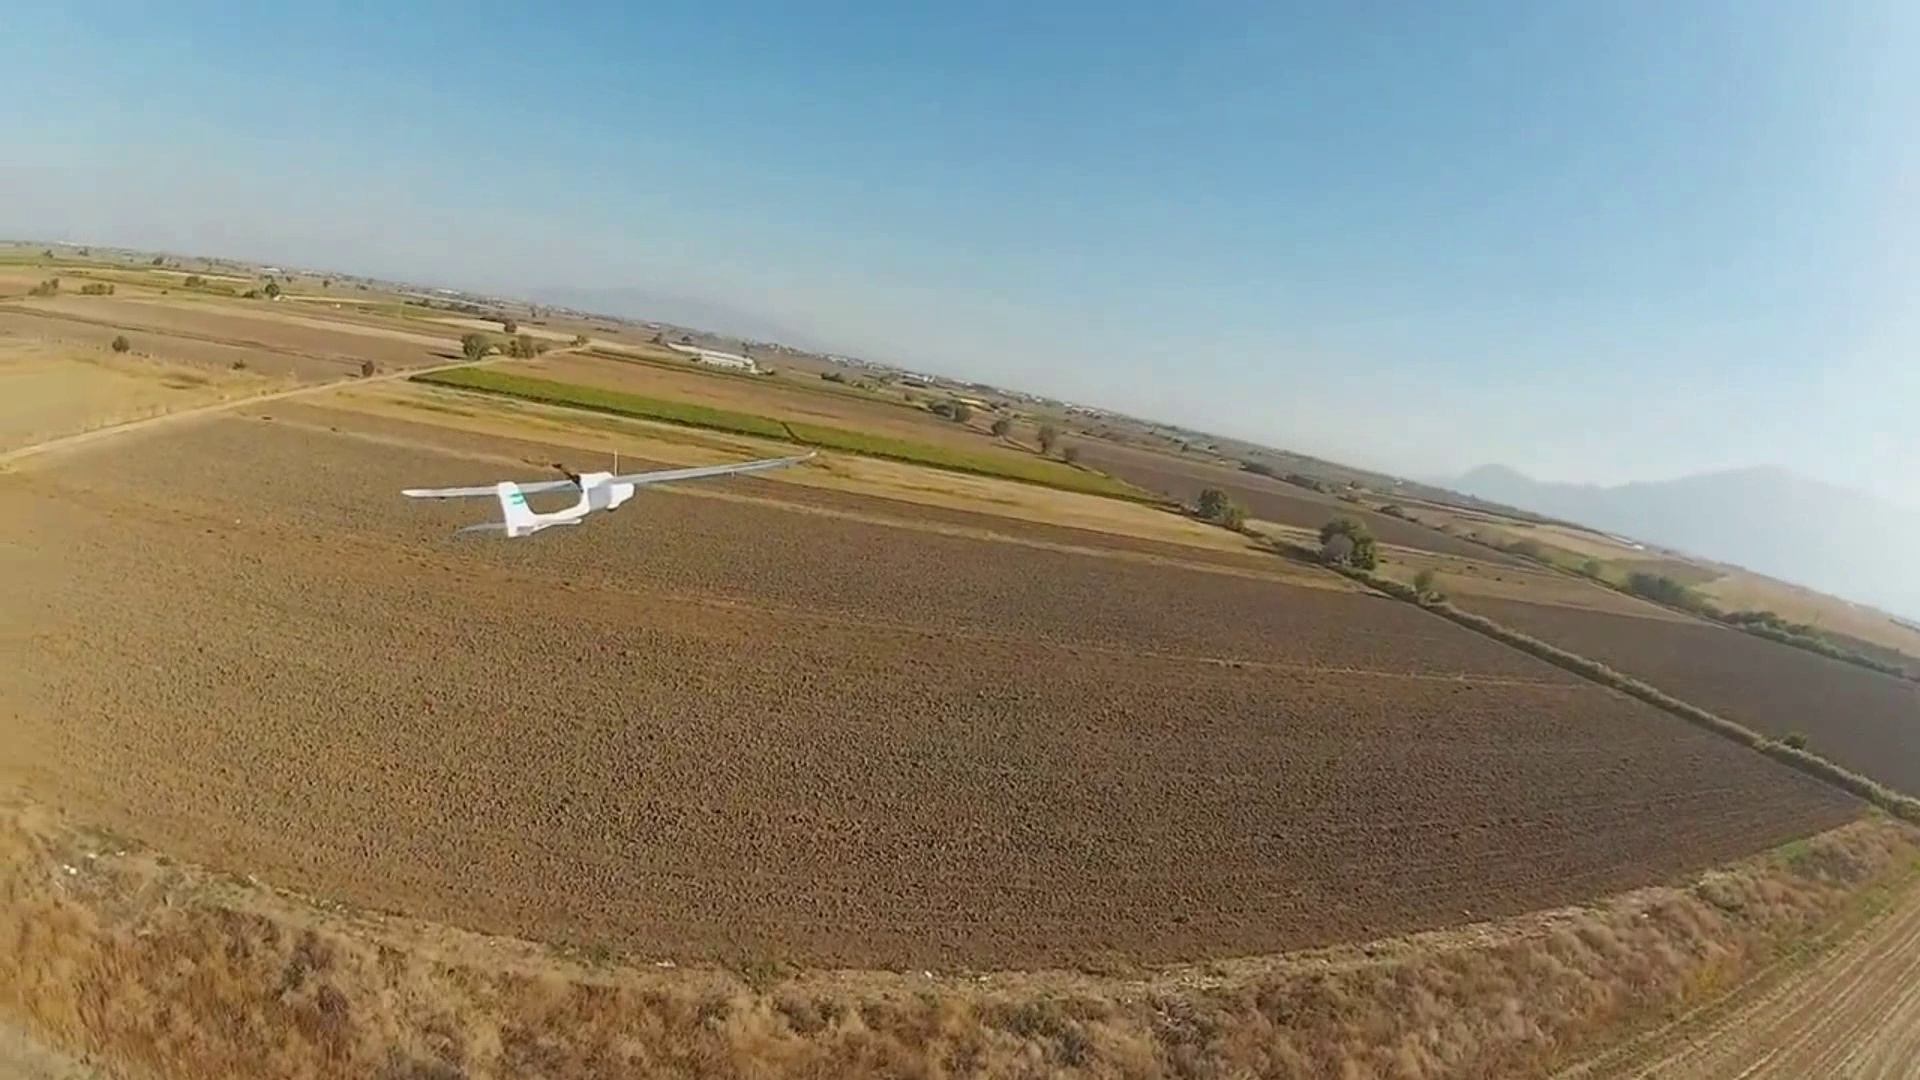airplane: (404, 469, 636, 535)
